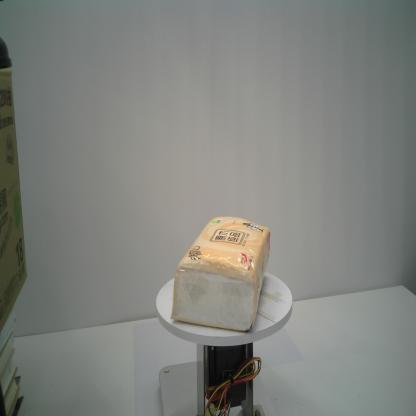Tissue: (168, 214, 273, 336)
